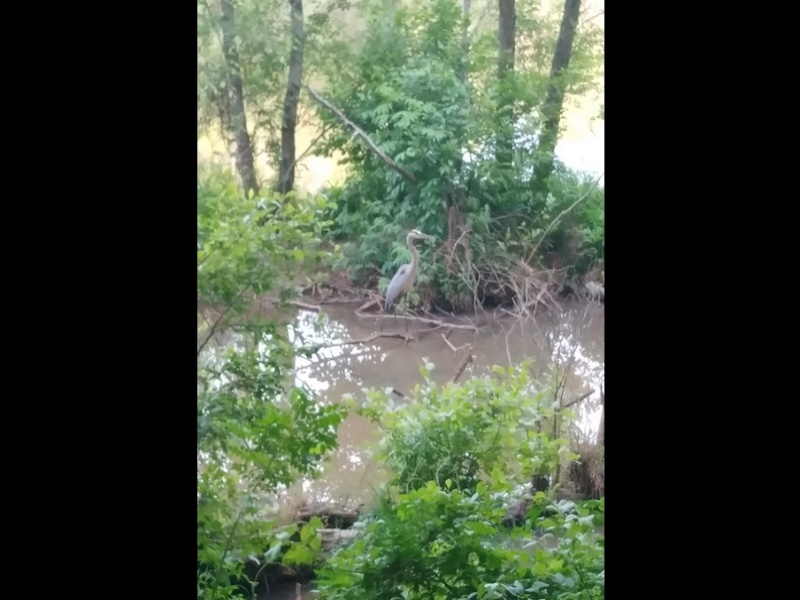heron: (384, 226, 433, 316)
